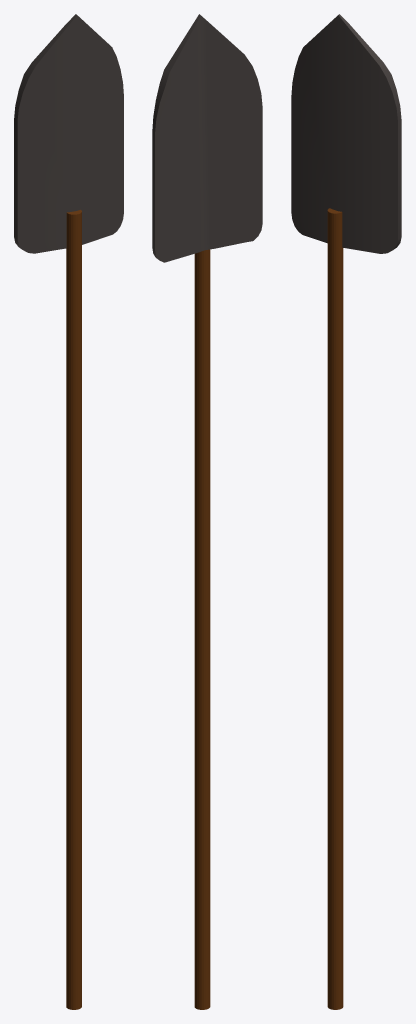
Rendered from pala_arma.fbx.
3 views of the same model, side by side, from view 1: azimuth 30°, elevation 25°; view 2: azimuth 210°, elevation 25°; view 3: azimuth 330°, elevation 25° (orthographic).
Parts seen in each view (by area): view 1: Cube; view 2: Cube; view 3: Cube.
Part boxes in pixels (left/top/right/bottom): Cube: left=14, top=14, right=123, bottom=1009; Cube: left=152, top=14, right=262, bottom=1009; Cube: left=291, top=14, right=401, bottom=1009.
Bounding box in the file's own units: 81.88 × 723 × 17.57.
